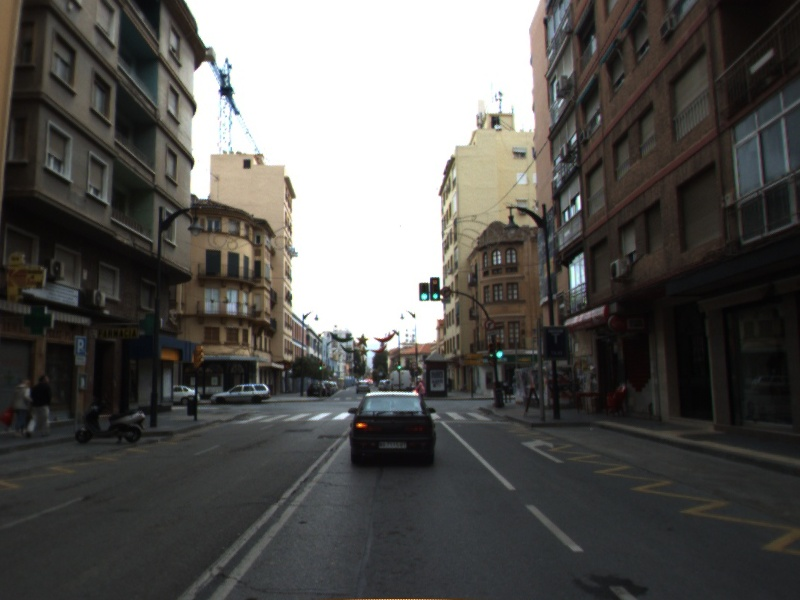RIGHT: (519, 436, 566, 465)
